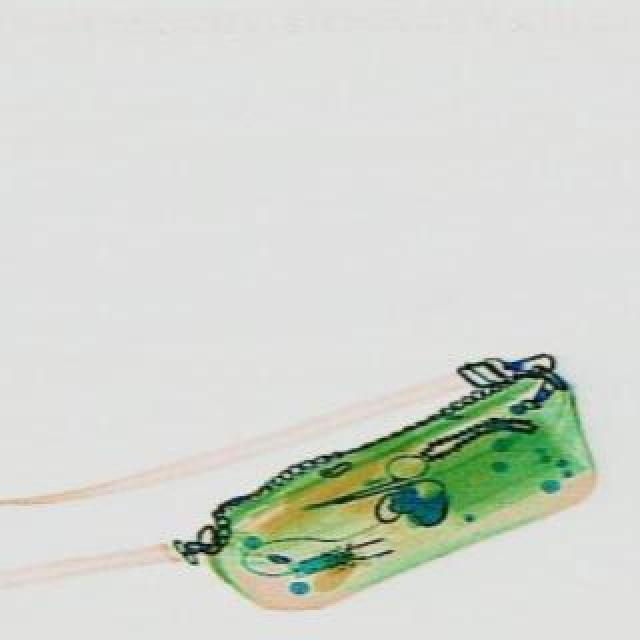pliers: (292, 444, 442, 534)
